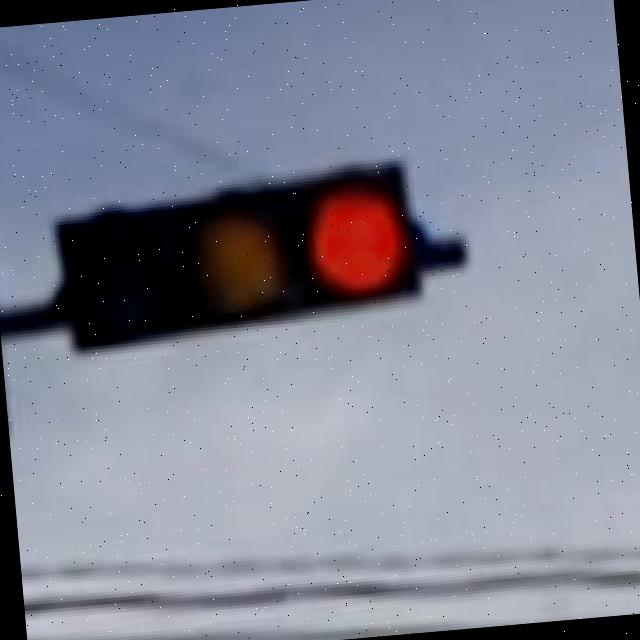Zolte swiatlo: (53, 160, 420, 352)
